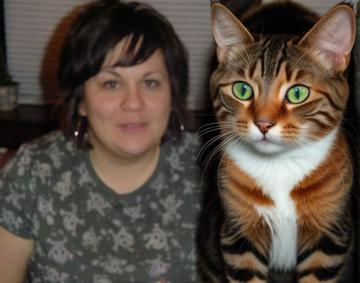cat: (194, 2, 359, 283)
person: (2, 2, 246, 283)
